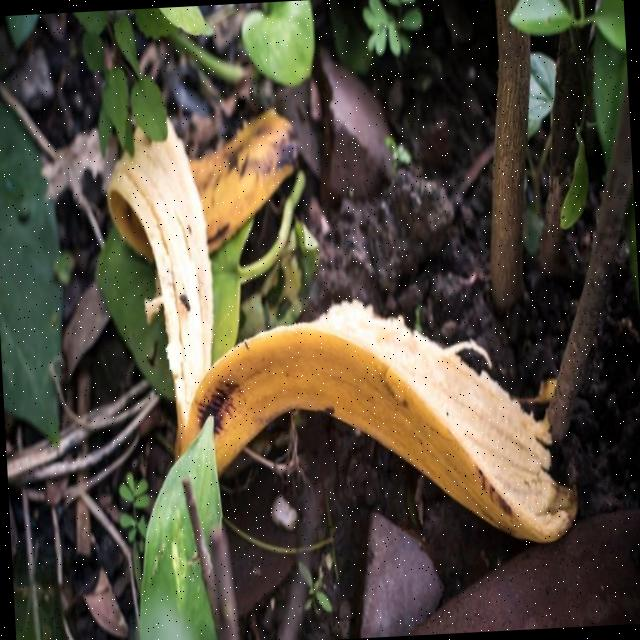banana-peel: (177, 285, 581, 563)
